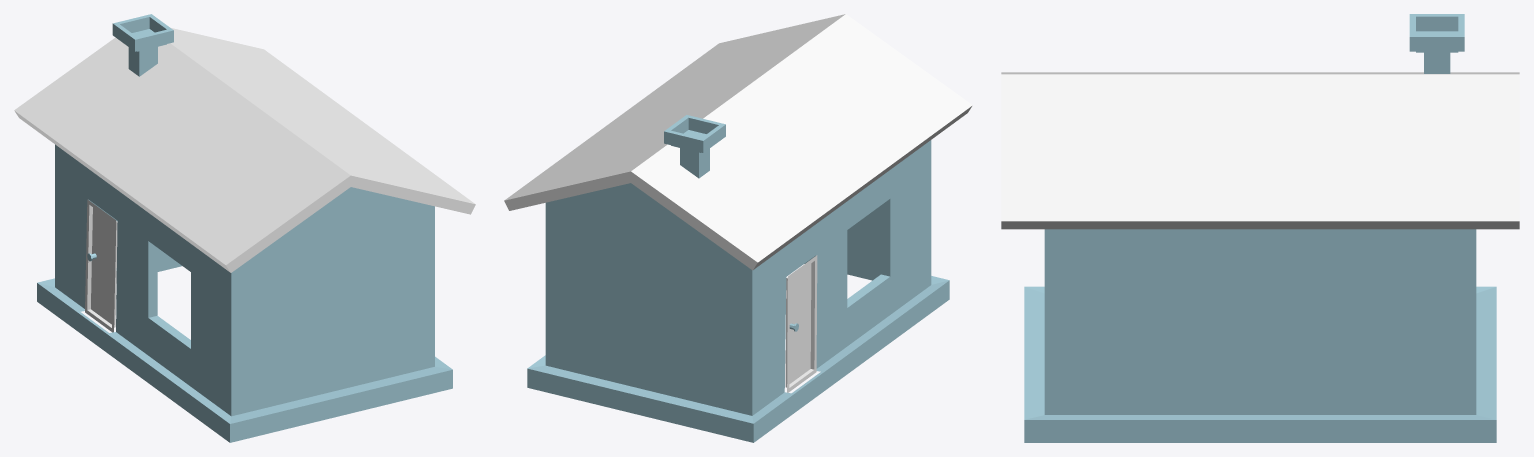
Rendered from house.glb.
3 views of the same model, side by side, from view 1: azimuth 30°, elevation 25°; view 2: azimuth 150°, elevation 25°; view 3: azimuth 270°, elevation 25° (orthographic). The views are drawn at different scales.
Visible parts, largest first — view 1: Cube, roof, door, chimney; view 2: Cube, roof, door, chimney; view 3: Cube, roof, chimney.
Part boxes in pixels (x1,y1,x2,y2): Cube: [37, 144, 452, 442]; roof: [14, 27, 475, 272]; door: [85, 199, 117, 332]; chimney: [112, 14, 173, 76]; Cube: [527, 140, 949, 442]; roof: [504, 14, 972, 270]; door: [785, 255, 817, 392]; chimney: [664, 115, 725, 178]; Cube: [1024, 229, 1496, 442]; roof: [1001, 72, 1519, 229]; chimney: [1409, 14, 1464, 73].
Size of the model in its own units: 4.91 by 5.11 by 7.21.
